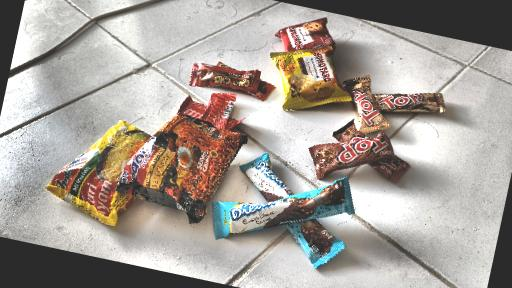dilan: (214, 151, 367, 288)
mie sedap: (115, 105, 261, 223)
momotaro: (276, 18, 354, 117)
top: (308, 55, 466, 206)
